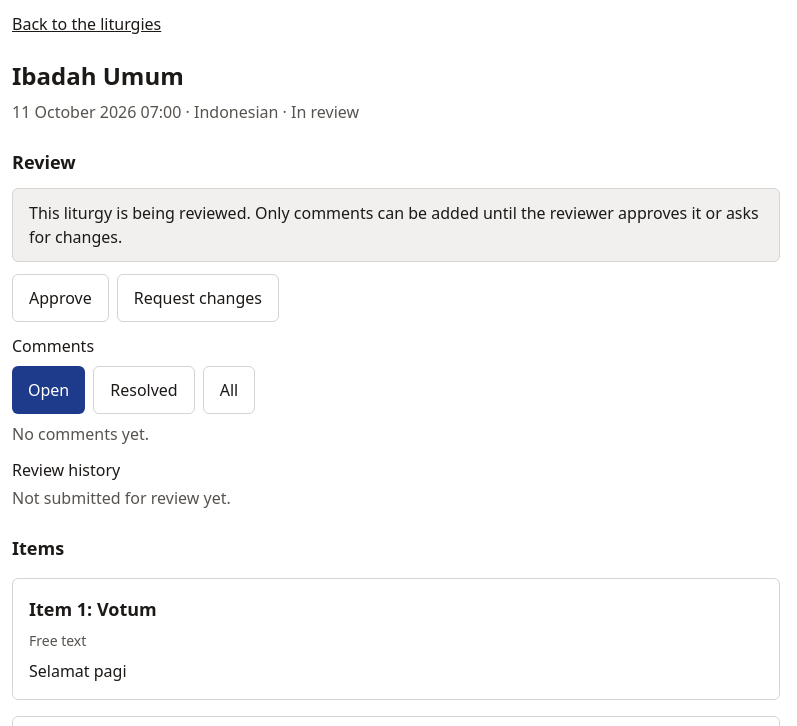
WT-R-002 approve › asks once more when comments are open
The width and height of the screenshot is (797, 726).
Click the button "Approve" at coordinates (60, 298), box [12,274,109,322]
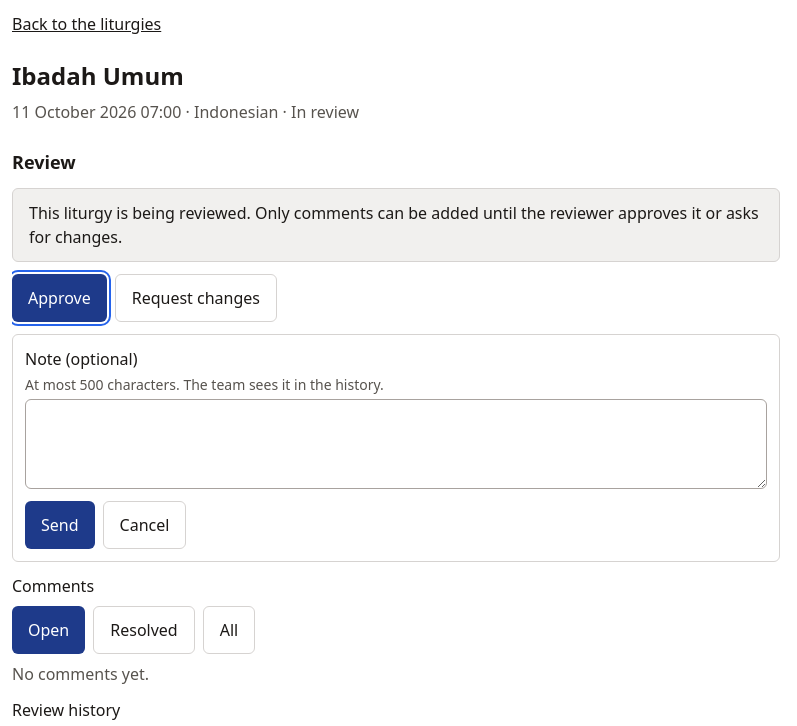
Click the button "Send" at coordinates (60, 525), box [25,501,94,549]
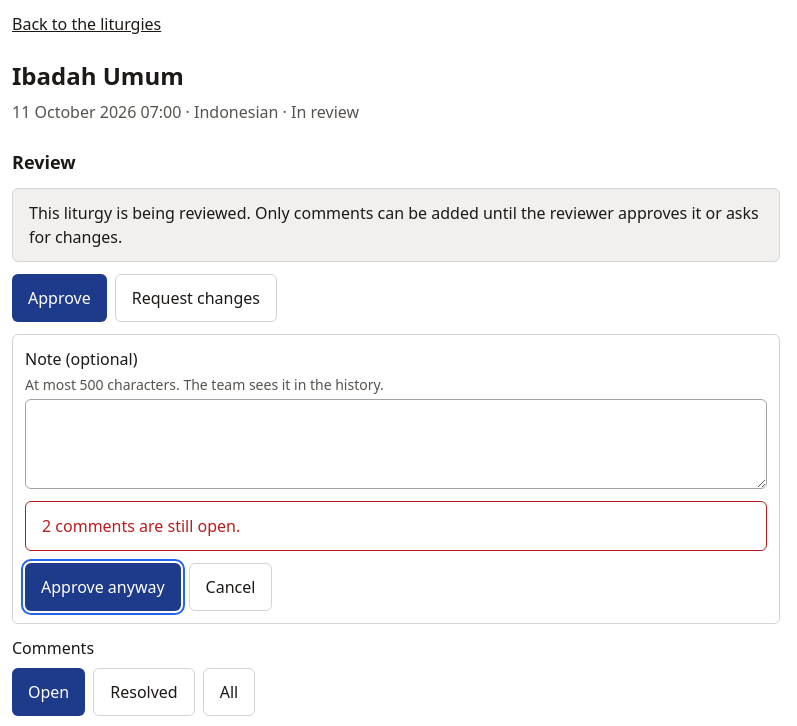
Now the text "2 comments are still open." is shown, box [25,501,767,551]
Click the button "Approve anyway" at coordinates (103, 587), box [25,563,181,611]
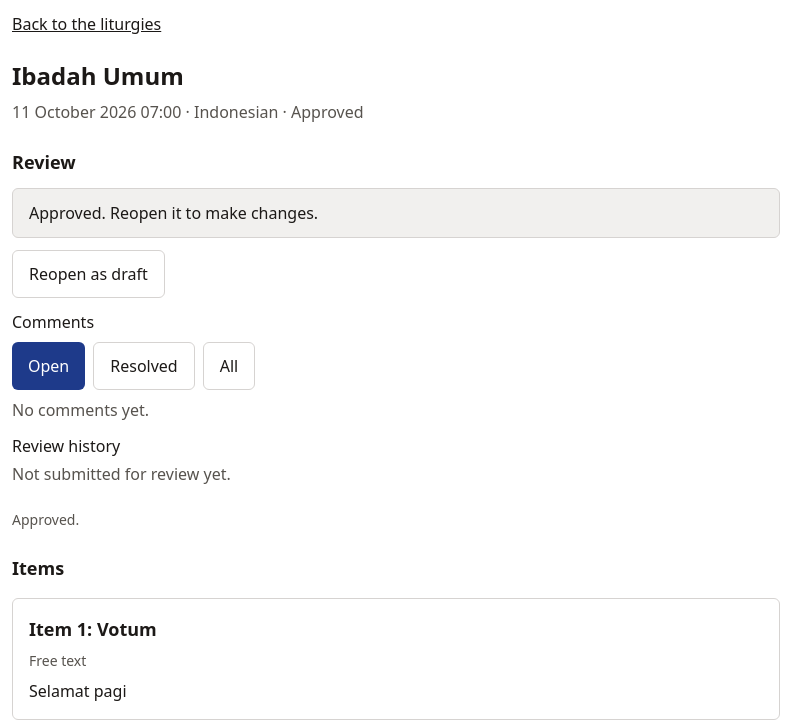
Now the text "Approved. Reopen it to make changes." is shown, box [12,188,780,238]
